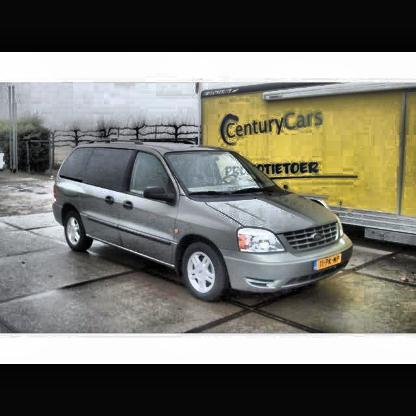Ford Freestar Minivan 2007: (52, 139, 356, 298)
